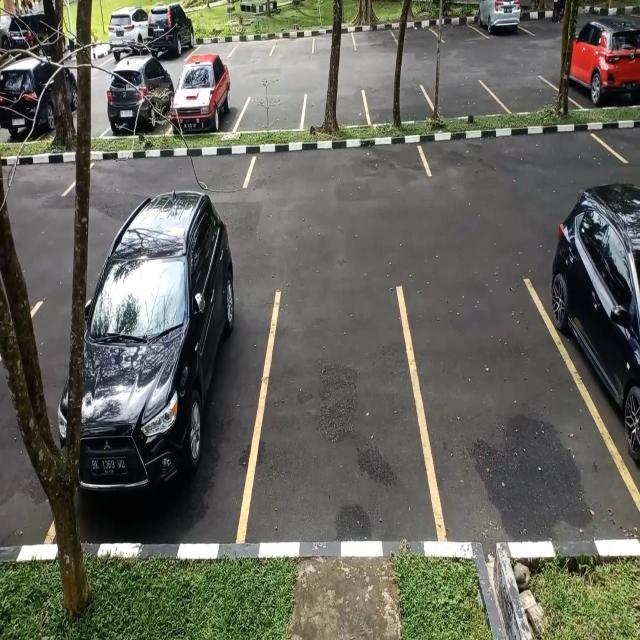Car: (82, 240, 254, 540), (552, 236, 640, 508), (568, 27, 640, 109), (169, 60, 242, 136), (476, 0, 532, 39)
Vacant: (253, 287, 423, 541), (418, 281, 564, 540), (424, 128, 608, 182), (247, 139, 424, 188), (365, 85, 434, 124), (241, 91, 306, 131), (304, 90, 369, 130), (496, 73, 559, 114), (436, 77, 496, 116), (270, 18, 314, 60), (312, 16, 354, 55), (354, 16, 398, 52), (436, 14, 476, 45), (230, 30, 272, 59)
